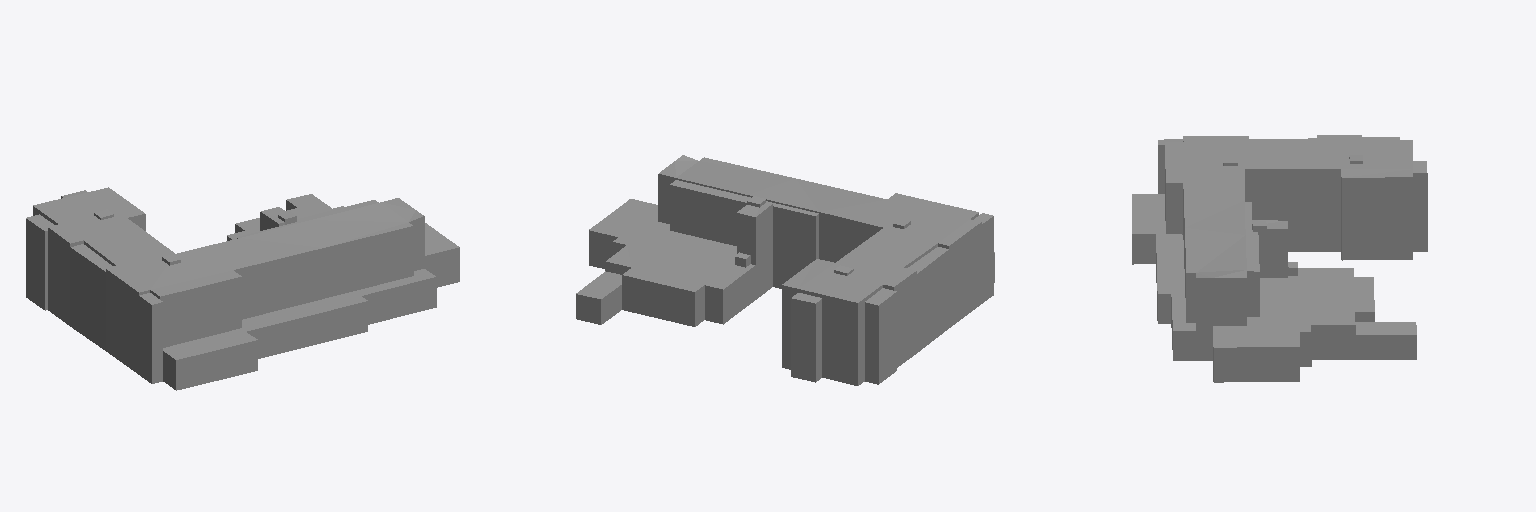
File: talo_build0000039_rotated.obj
3 renders of one model, left to right at view 1: azimuth 30°, elevation 25°; view 2: azimuth 150°, elevation 25°; view 3: azimuth 270°, elevation 25°, orthographic.
Parts seen in each view (by area): view 1: talo_Build[number redacted]; view 2: talo_Build[number redacted]; view 3: talo_Build[number redacted].
Part boxes in pixels (left/top/right/bottom): talo_Build[number redacted]: left=26, top=187, right=459, bottom=390; talo_Build[number redacted]: left=576, top=155, right=994, bottom=385; talo_Build[number redacted]: left=1132, top=135, right=1427, bottom=382.
Size of the model in its own units: 7.16 by 1.74 by 5.37.